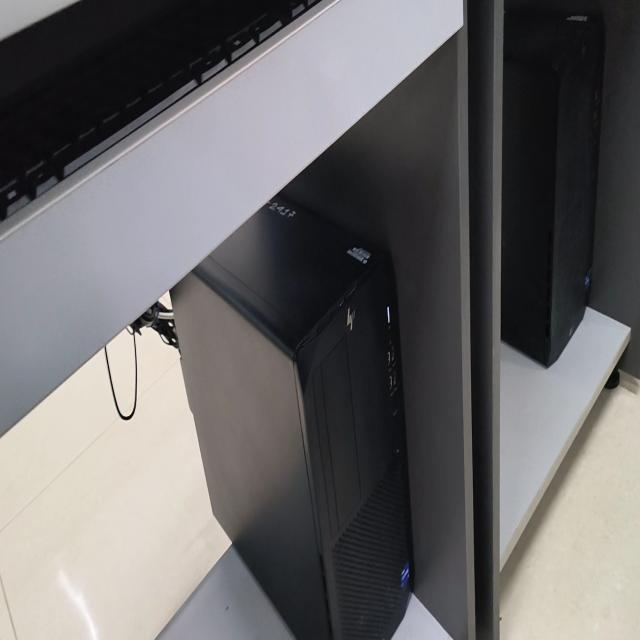Cpu: (171, 197, 413, 639), (501, 2, 604, 366)
Keyboard: (0, 0, 320, 223)
